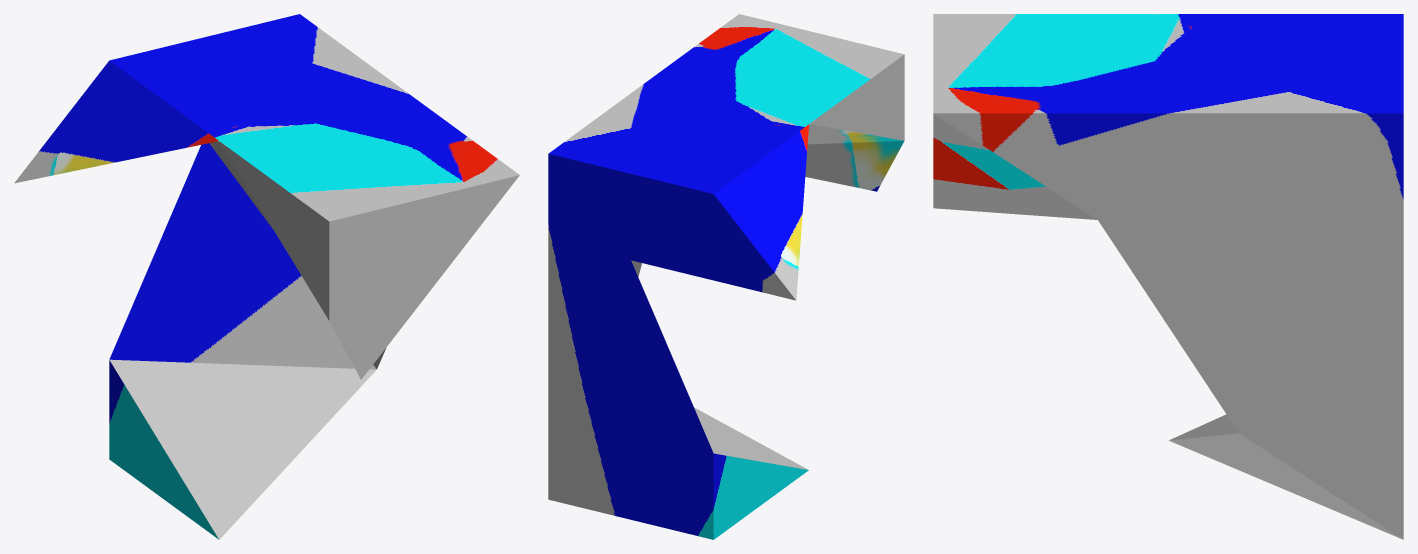
The model's file is CubeFragment4.fbx.
The picture shows the model from 3 angles, left to right: view 1: azimuth 30°, elevation 25°; view 2: azimuth 150°, elevation 25°; view 3: azimuth 270°, elevation 25°; orthographic projection. The views are drawn at different scales.
Parts seen in each view (by area): view 1: CubeFragment4; view 2: CubeFragment4; view 3: CubeFragment4.
Part boxes in pixels (x1,y1,x2,y2): CubeFragment4: [14, 14, 519, 539]; CubeFragment4: [548, 14, 904, 539]; CubeFragment4: [933, 14, 1403, 539].
Size of the model in its own units: 0.75 by 1 by 1.
